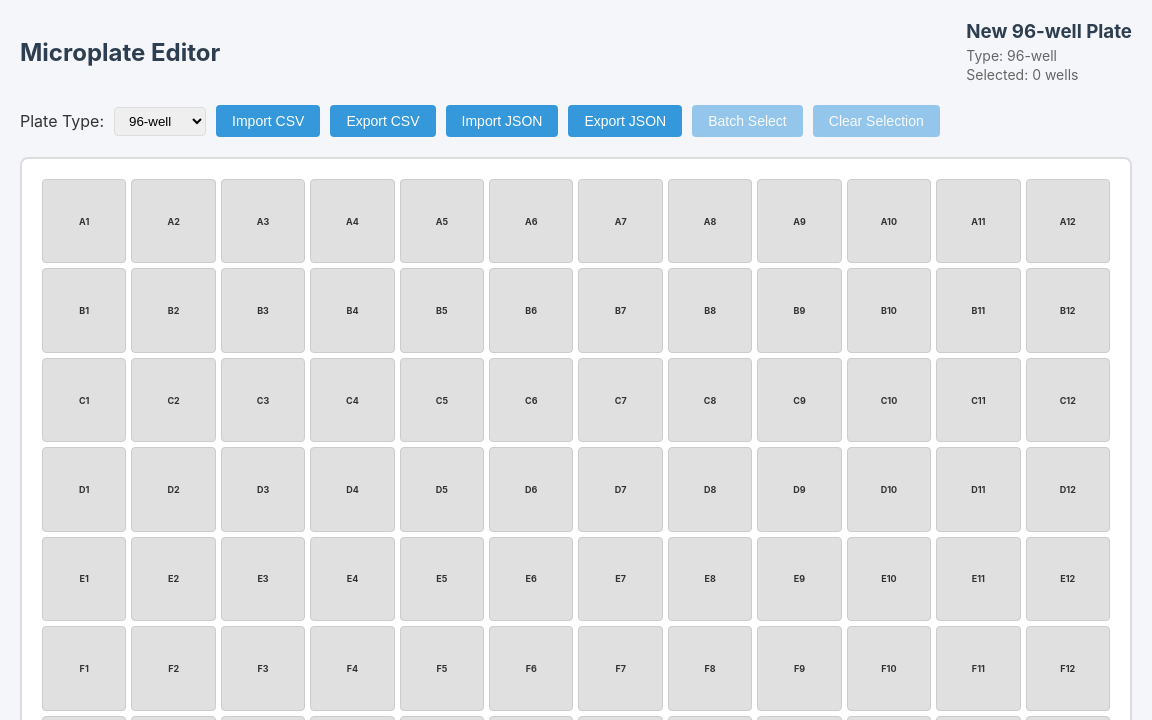
Test: MicroplateEditor › toggles selection on second click
The image size is (1152, 720).
Click the text "A1" at {"x": 84, "y": 221}, box x1=42 y1=179 x2=126 y2=263
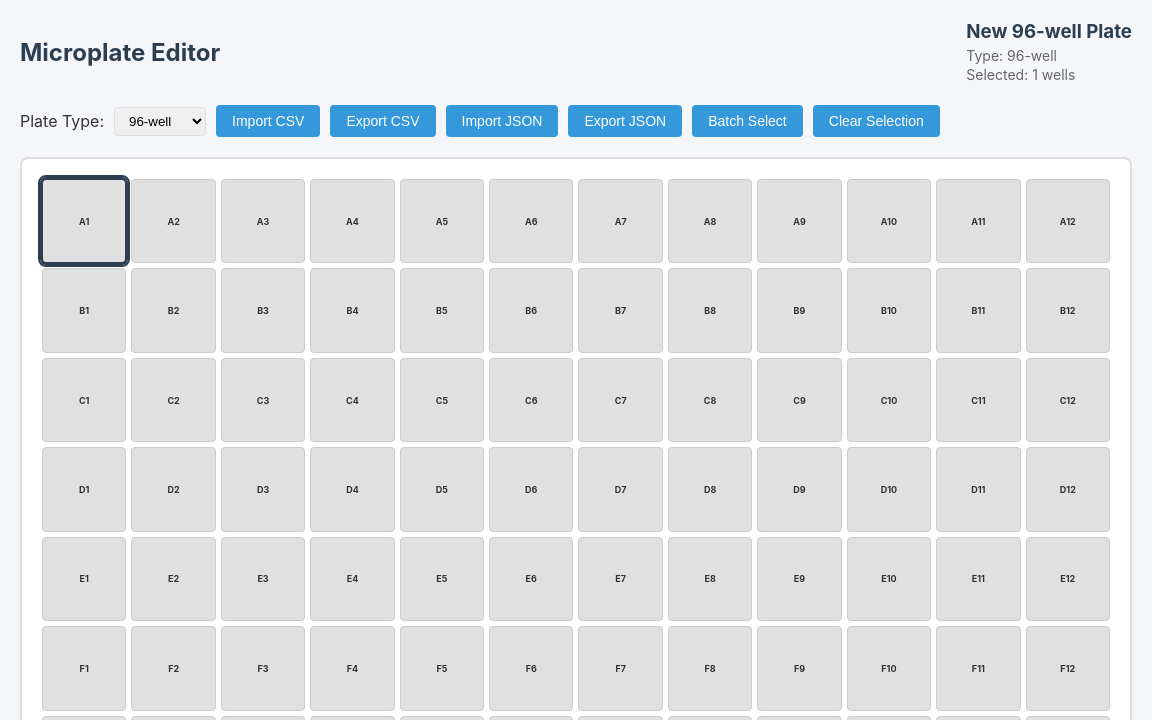
Expected: the text "Selected: 1 wells" is shown, x1=966 y1=66 x2=1075 y2=83
// Re-query after React re-render
Click the text "A1" at {"x": 84, "y": 221}, box x1=42 y1=179 x2=126 y2=263
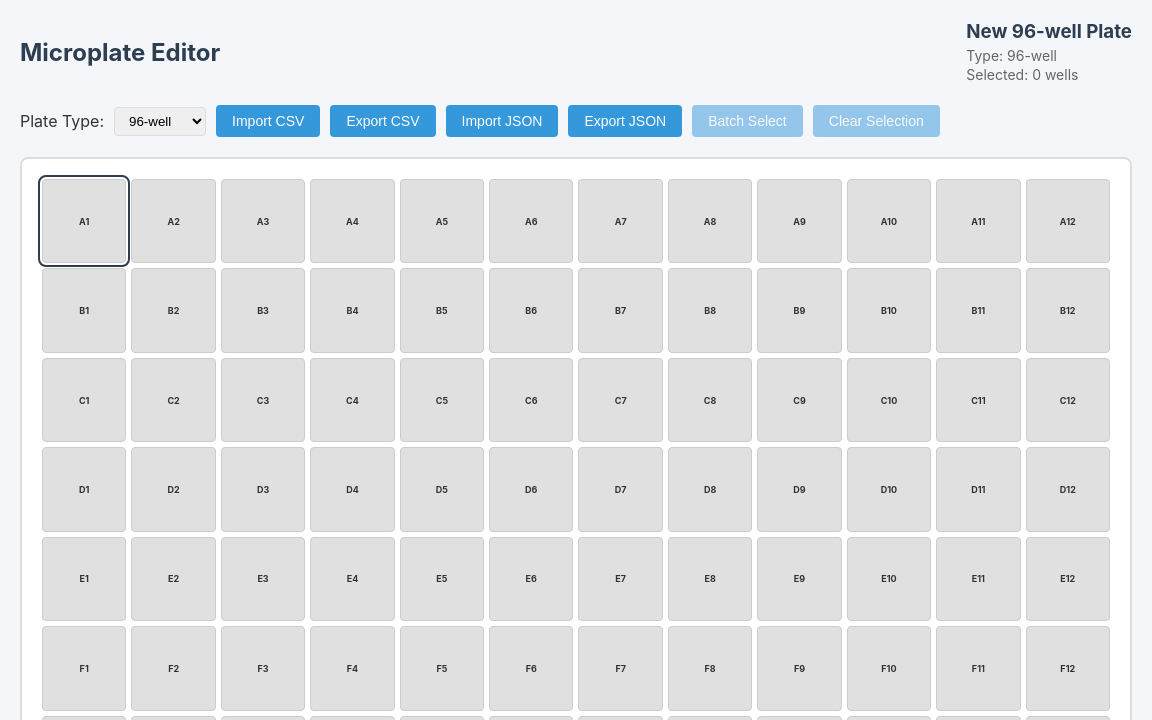
Expected: the text "Selected: 0 wells" is shown, x1=966 y1=66 x2=1078 y2=83
